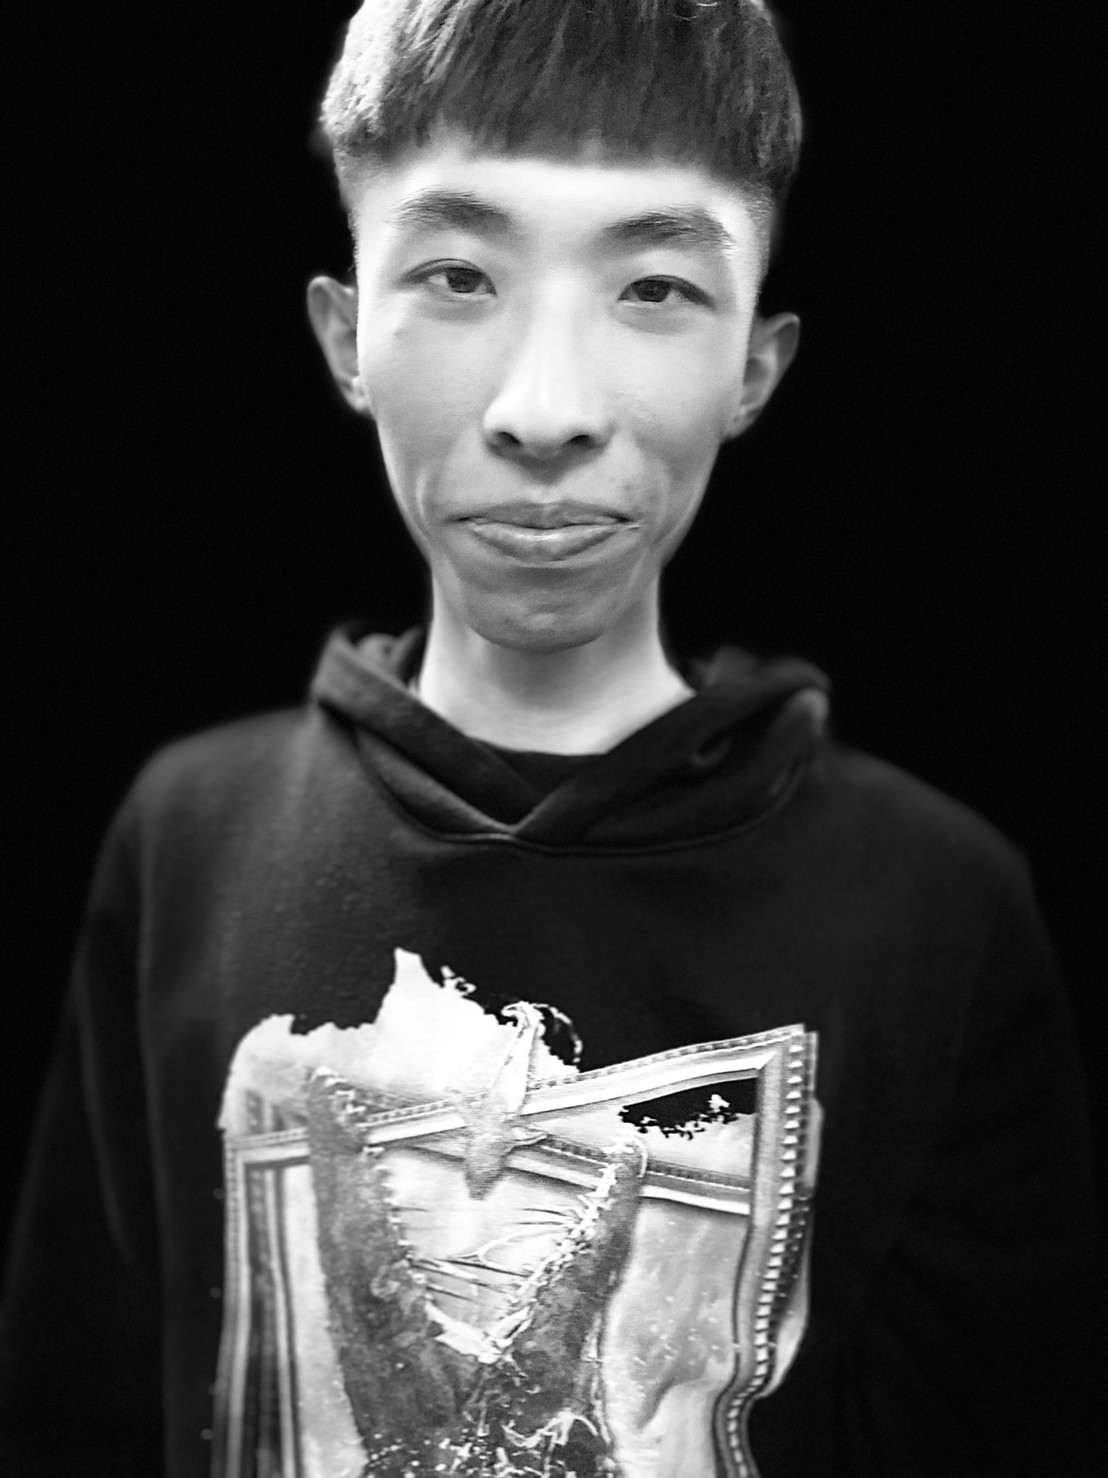people: (233, 1, 840, 1478)
